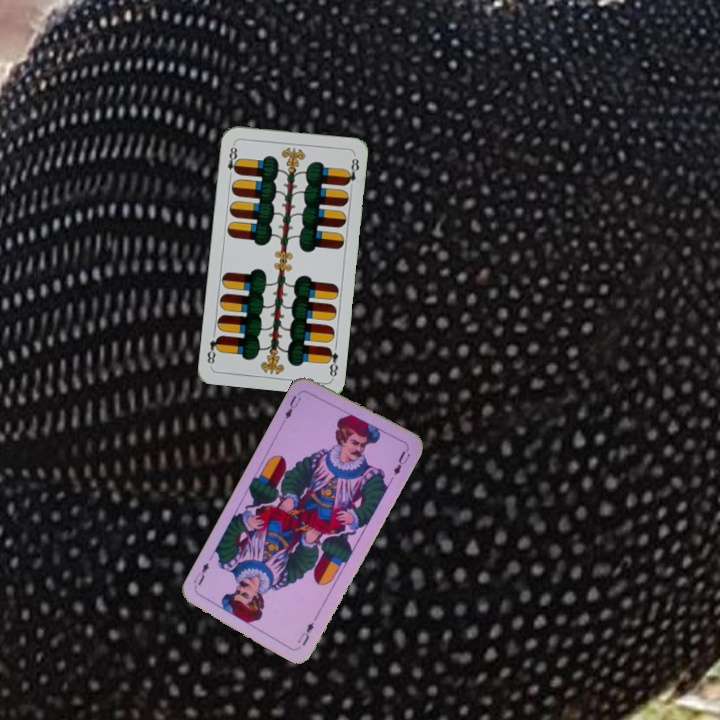E8: (223, 140, 241, 180), (322, 343, 341, 380)
EU: (281, 388, 304, 422), (293, 618, 317, 648)
